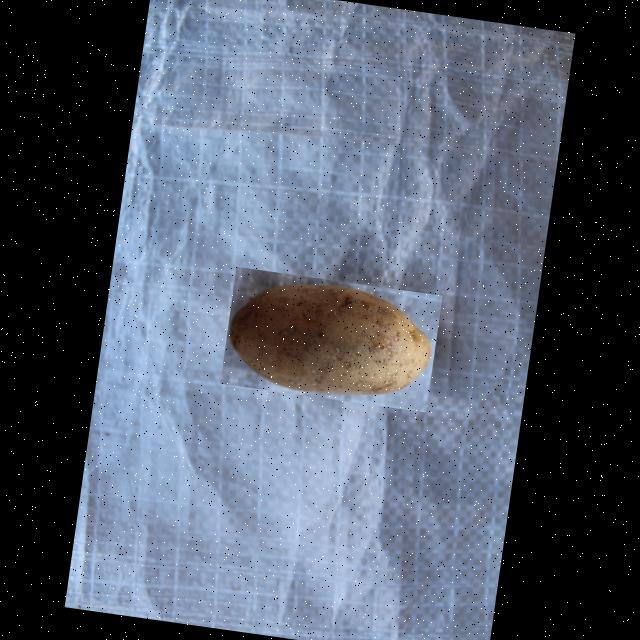Diseased-fungal potato: (220, 266, 442, 412)
